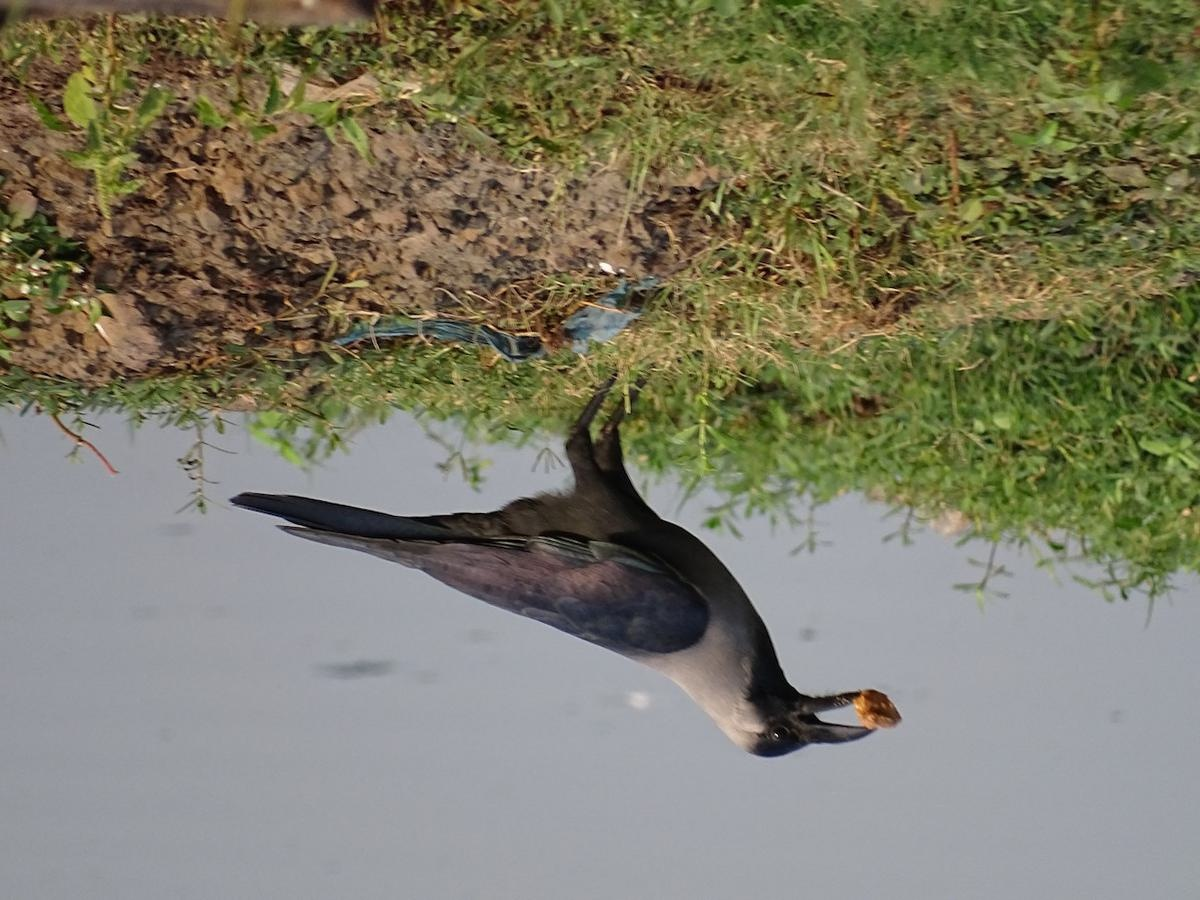crow: (217, 394, 894, 779)
